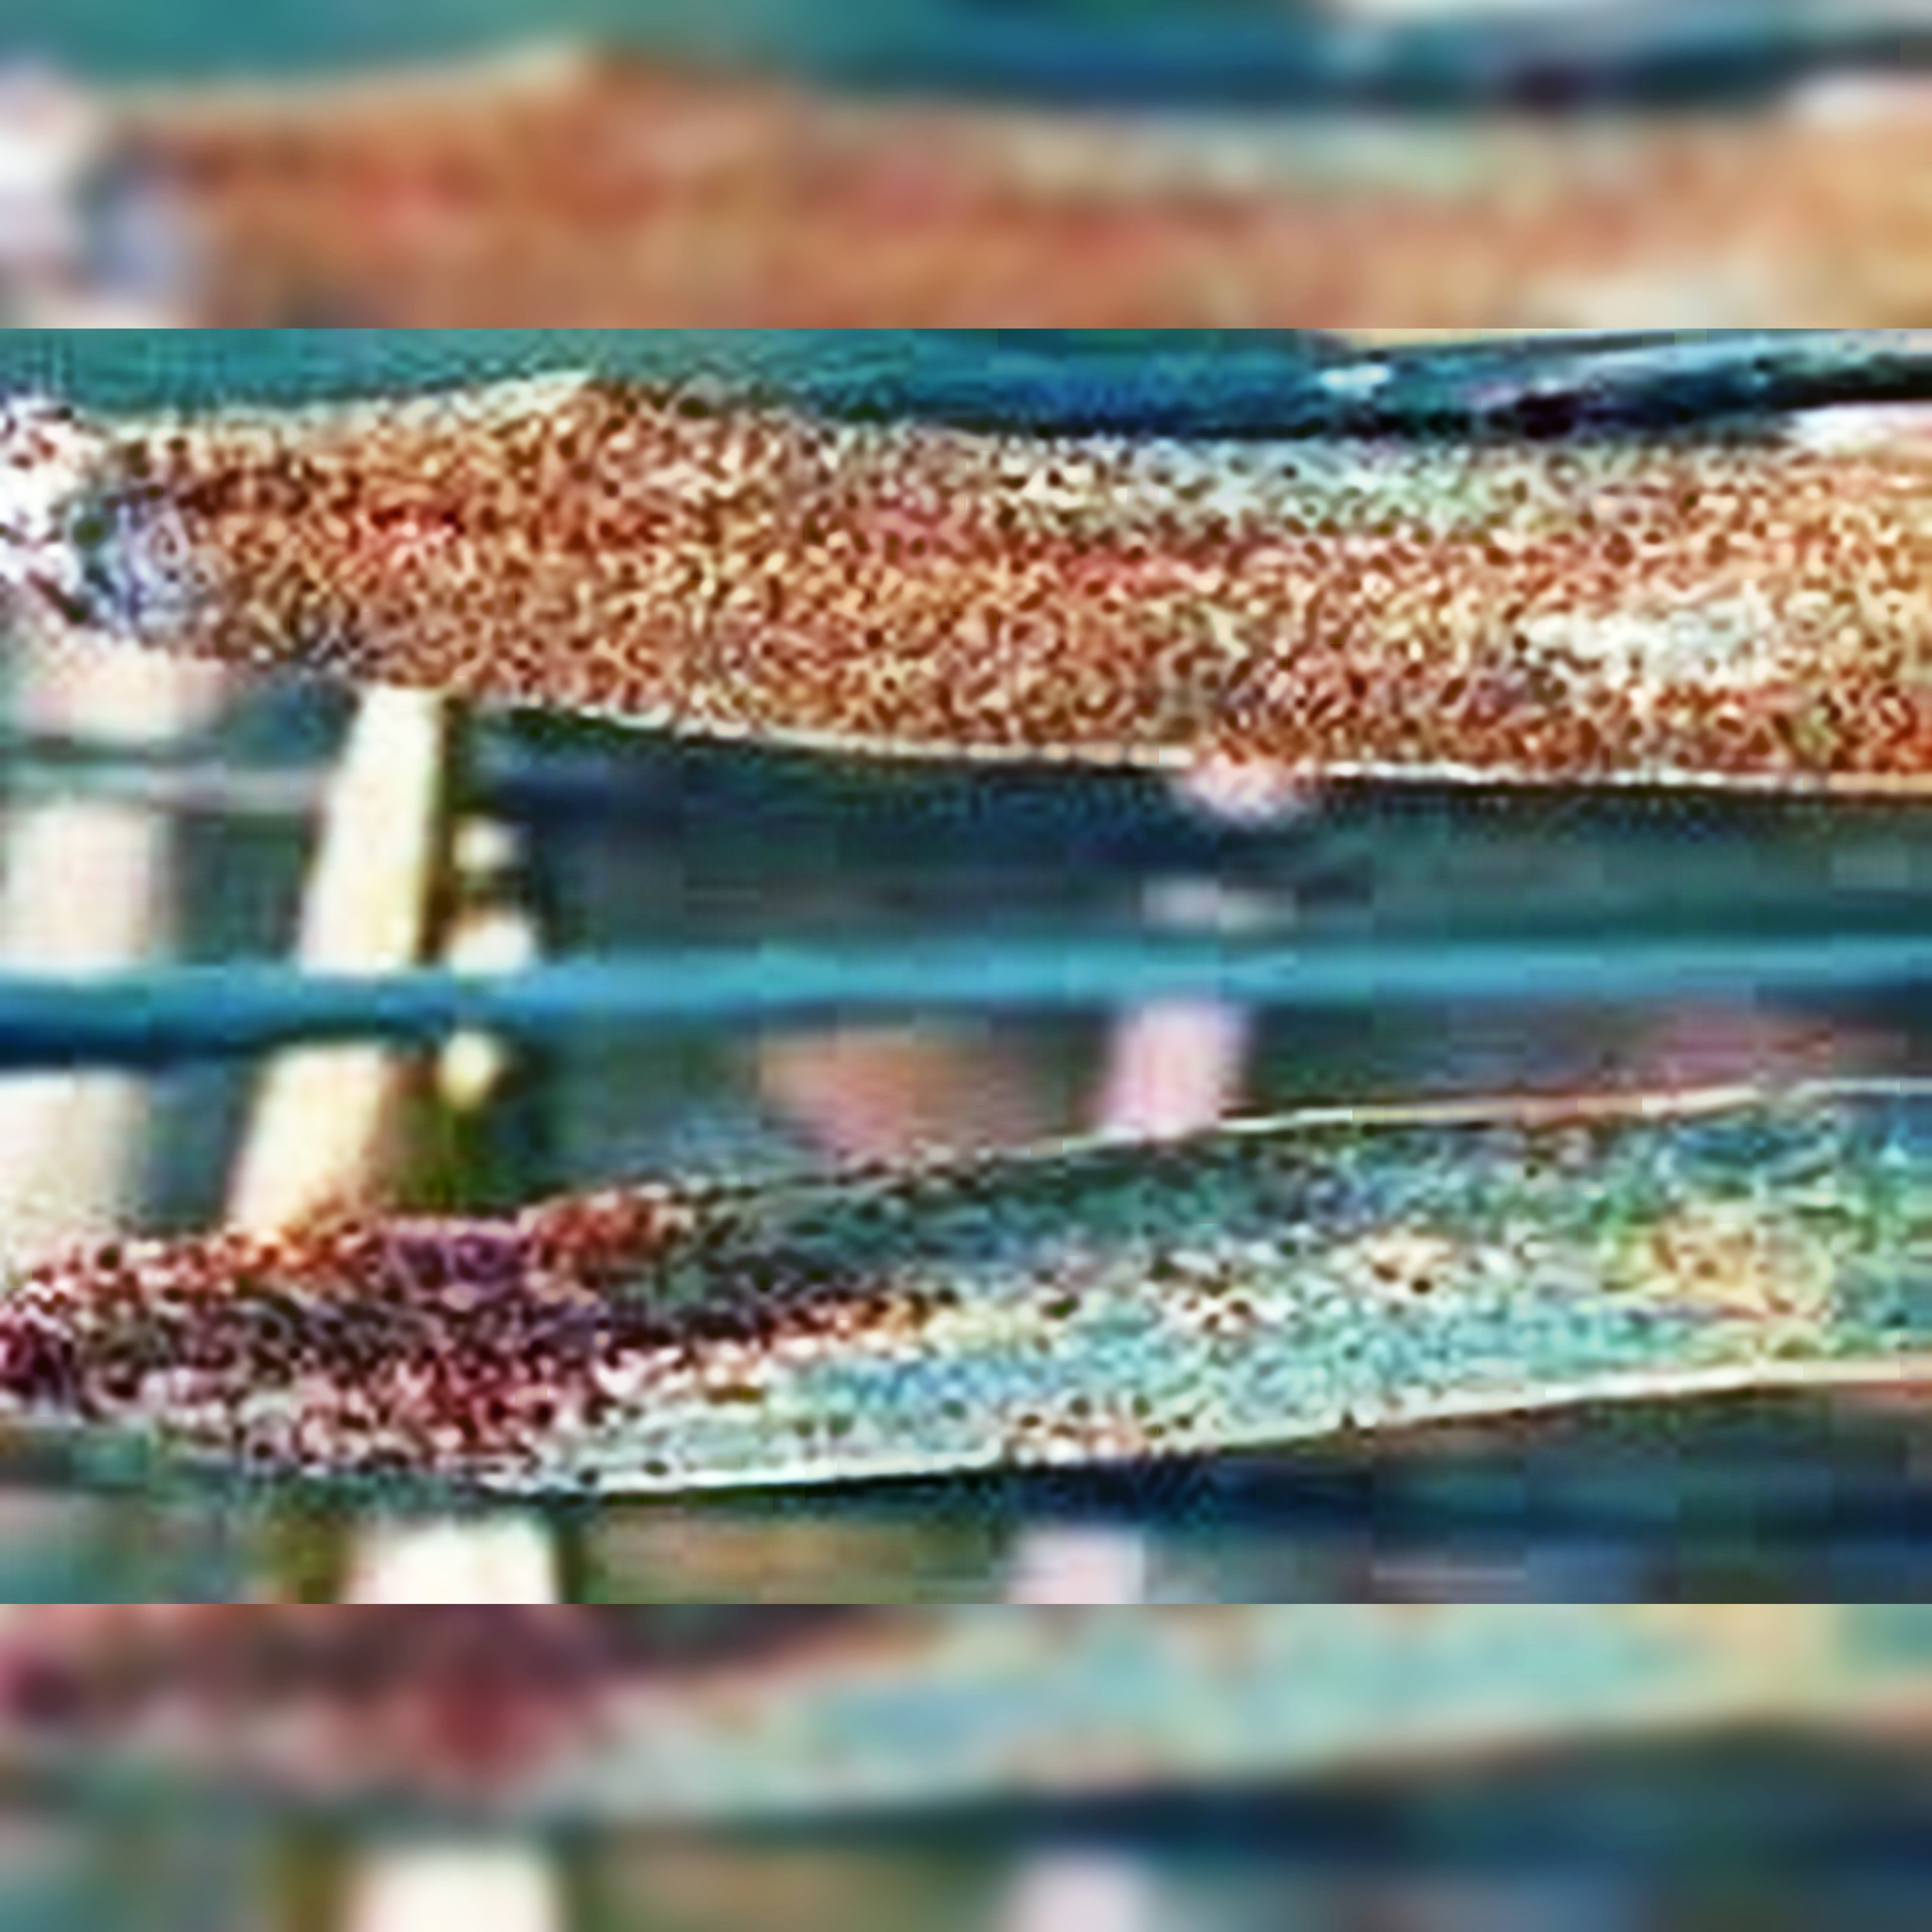Leaf Rust: (168, 290, 1861, 784)
